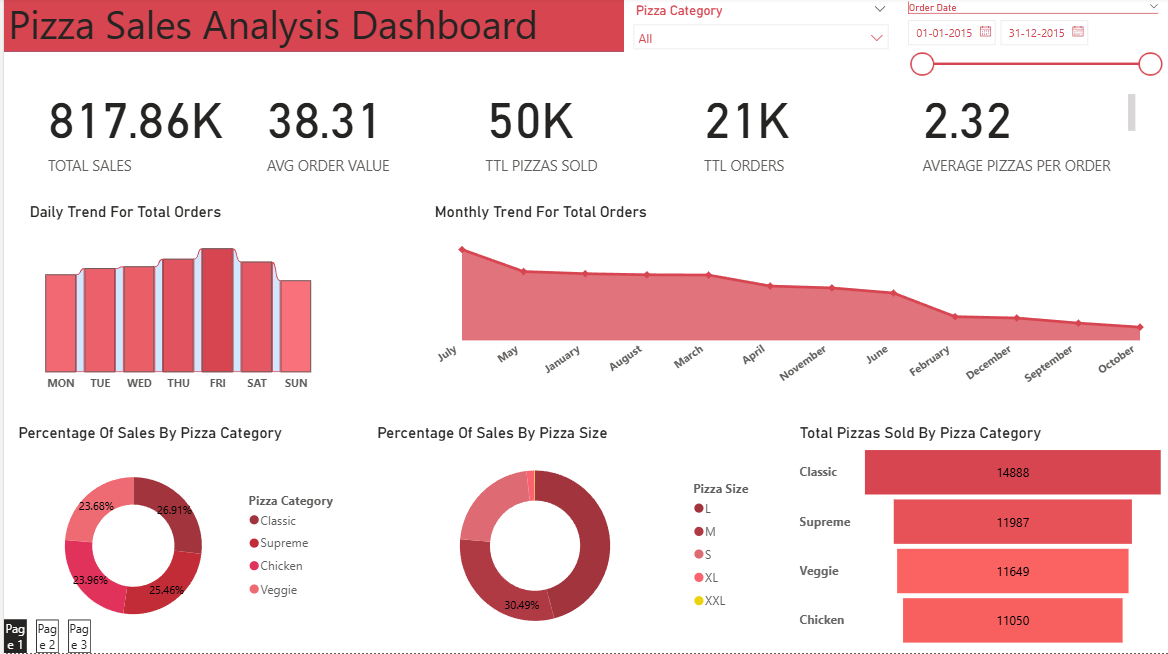

Layout of this report page (visuals, bound fields, positions):
{"tool":"powerbi","page":{"name":"Page 1","canvas":[1280,720],"ordinal":0},"visuals":[{"type":"shape","box":[0,0,1280.3,60.4],"z":0},{"type":"textbox","box":[0,0,680,60],"z":1000},{"type":"cardVisual","fields":{"Data":["order_details.TTL REVENUE","order_details.AVG ORDER VALUE","order_details.TTL PIZZAS SOLD","Query11.TTL ORDERS","order_details.AVERAGE PIZZAS PER ORDER","pizza_sales.TOTAL PROFIT","customers.CUSTOMER COUNT"]},"box":[32,87.7,1215.6,119.7],"z":2000},{"type":"columnChart","title":"Daily Trend For Total Orders","fields":{"Category":["pizza_sales.Order Day"],"Y":["pizza_sales.Total Orders"]},"box":[22.9,225.7,337.1,217.1],"z":3000},{"type":"areaChart","title":"Monthly Trend For Total Orders","fields":{"Category":["pizza_sales.Month Name"],"Y":["Query11.TTL ORDERS"]},"box":[468.6,225.7,811.4,217.1],"z":4000},{"type":"donutChart","title":"Percentage Of Sales By Pizza Category","fields":{"Category":["Query8.pizza_category"],"Y":["order_details.TTL REVENUE"]},"box":[11.4,468.6,371.4,250],"z":5000},{"type":"funnel","title":"Total Pizzas Sold By Pizza Category","fields":{"Category":["Query8.pizza_category"],"Y":["order_details.TTL PIZZAS SOLD"]},"box":[868.6,468.6,411.4,251.4],"z":6000},{"type":"donutChart","title":"Percentage Of Sales By Pizza Size","fields":{"Y":["pizza_sales.Total Revenue"],"Category":["pizza_sales.pizza_size"]},"box":[404.3,468.6,435.7,250],"z":7000},{"type":"slicer","fields":{"Values":["pizza_sales.pizza_category"]},"box":[680,1.4,300,61.4],"z":8000},{"type":"slicer","fields":{"Values":["pizza_sales.order_date"]},"box":[980,0,300,105.7],"z":9000},{"type":"pageNavigator","box":[0,682.9,95.7,37.1],"z":10000}]}

Visuals, with their boxes in screenshot pixels (x1, y1, x2, y2), scaled from the page's 1280x720 canvas onto the 1168x654 screenshot:
shape: {"left": 0, "top": 0, "right": 1167, "bottom": 55}
textbox: {"left": 0, "top": 0, "right": 620, "bottom": 54}
cardVisual - order_details.TTL REVENUE x order_details.AVG ORDER VALUE: {"left": 29, "top": 80, "right": 1138, "bottom": 188}
"Daily Trend For Total Orders" columnChart: {"left": 21, "top": 205, "right": 328, "bottom": 402}
"Monthly Trend For Total Orders" areaChart: {"left": 428, "top": 205, "right": 1167, "bottom": 402}
"Percentage Of Sales By Pizza Category" donutChart: {"left": 10, "top": 426, "right": 349, "bottom": 653}
"Total Pizzas Sold By Pizza Category" funnel: {"left": 793, "top": 426, "right": 1167, "bottom": 653}
"Percentage Of Sales By Pizza Size" donutChart: {"left": 369, "top": 426, "right": 766, "bottom": 653}
slicer - pizza_sales.pizza_category: {"left": 620, "top": 1, "right": 894, "bottom": 57}
slicer - pizza_sales.order_date: {"left": 894, "top": 0, "right": 1167, "bottom": 96}
pageNavigator: {"left": 0, "top": 620, "right": 87, "bottom": 653}
